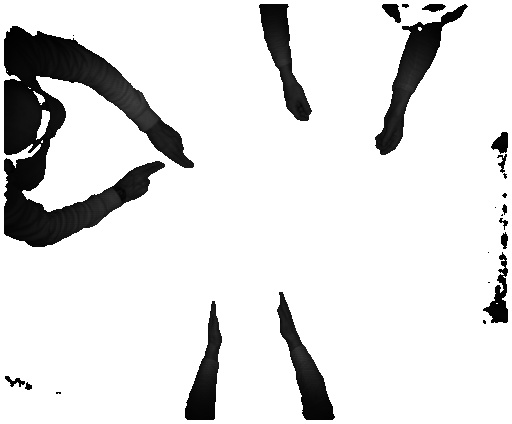hand: (120, 162, 168, 207), (152, 125, 198, 171), (368, 112, 407, 159), (281, 82, 311, 127)
spine: (272, 288, 303, 340), (200, 298, 223, 354)
